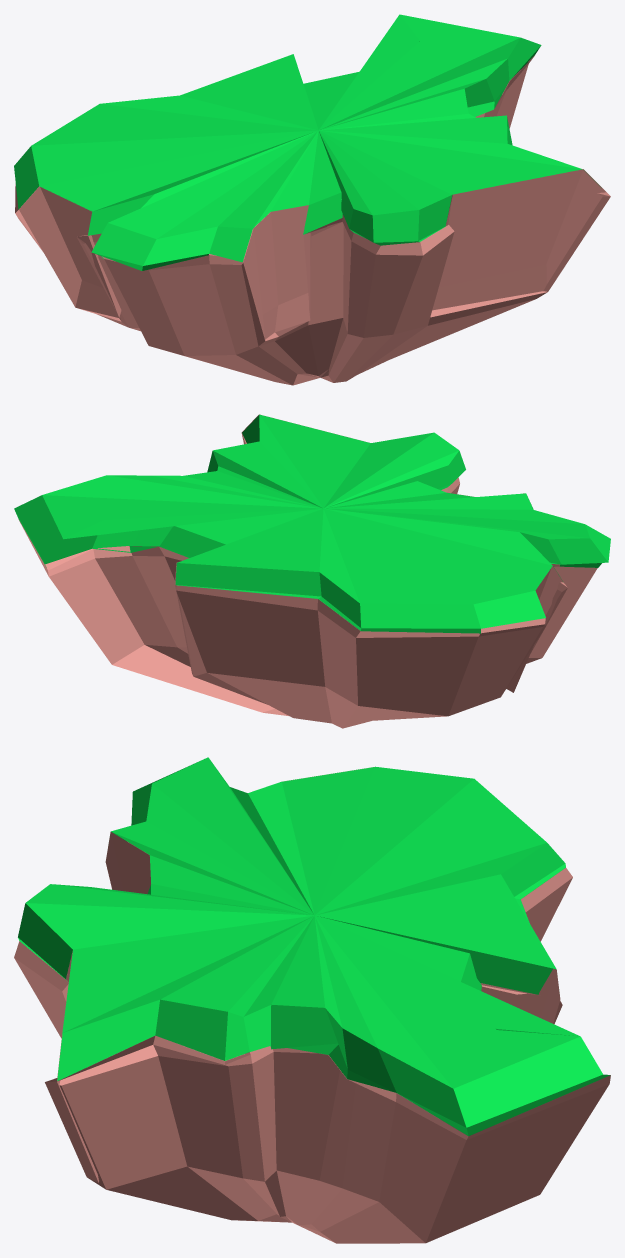
3 views of the same model, one above another, from view 1: azimuth 30°, elevation 25°; view 2: azimuth 150°, elevation 25°; view 3: azimuth 270°, elevation 25° (orthographic). The views are drawn at different scales.
Visible parts, largest first — view 1: Vert.001, Vert.004; view 2: Vert.001, Vert.004; view 3: Vert.001, Vert.004.
Boxes of the visible parts, x1,y1,x2,y2 form: Vert.001: (14, 14, 601, 270); Vert.004: (15, 55, 610, 385); Vert.001: (14, 414, 610, 633); Vert.004: (18, 414, 597, 728); Vert.001: (18, 757, 610, 1136); Vert.004: (14, 768, 610, 1243).
Size of the model in its own units: 1175 by 494 by 842.
